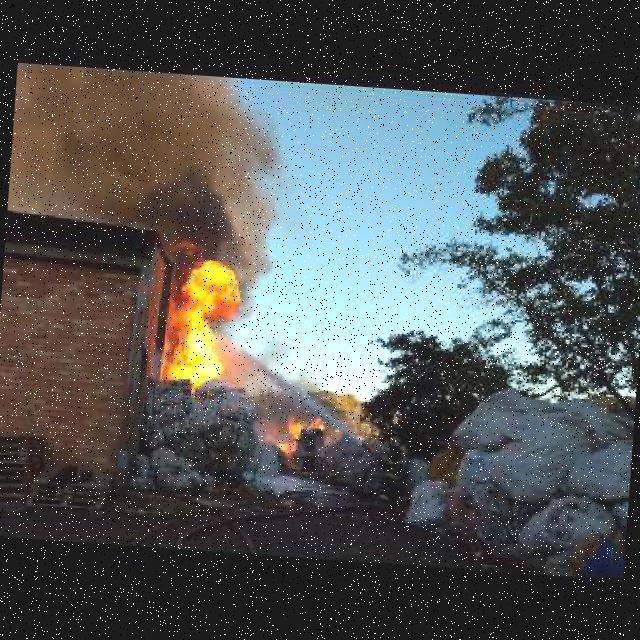Fire: (156, 255, 244, 382), (279, 412, 332, 455)
Smoke: (60, 64, 295, 251), (249, 322, 318, 406)
